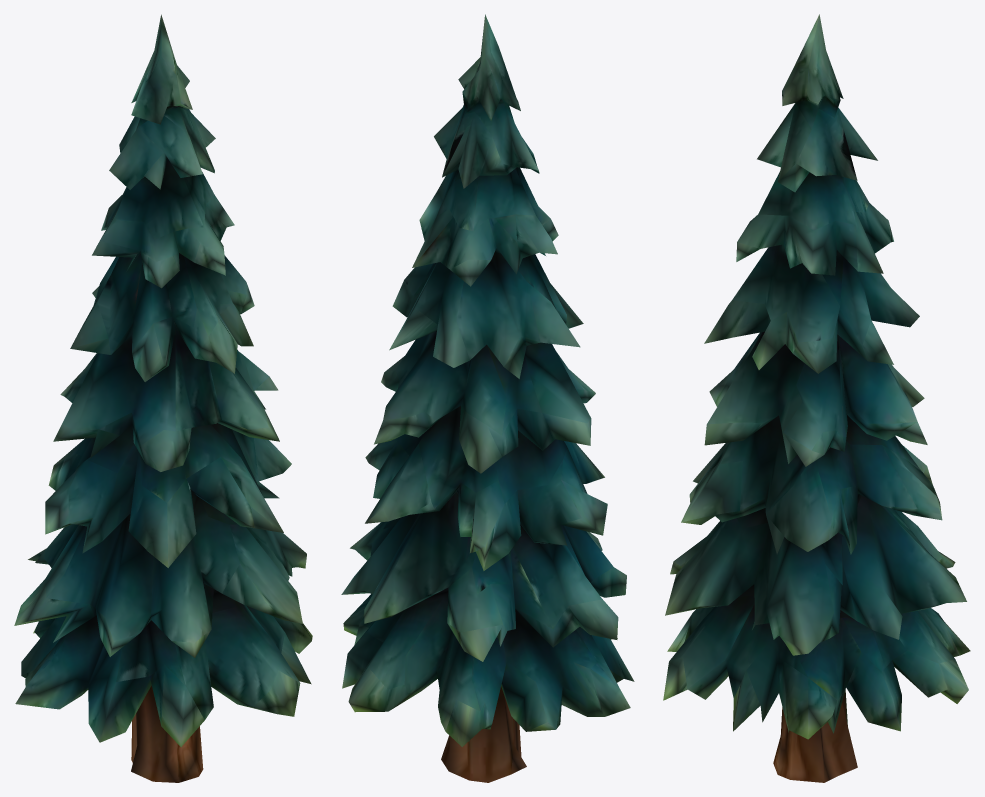
File: tree-fir.glb
3 renders of one model, left to right at view 1: azimuth 30°, elevation 25°; view 2: azimuth 150°, elevation 25°; view 3: azimuth 270°, elevation 25°, orthographic.
Visible parts, largest first — view 1: tree-fir; view 2: tree-fir; view 3: tree-fir.
Boxes of the visible parts, x1,y1,x2,y2 form: tree-fir: [14, 14, 312, 782]; tree-fir: [341, 14, 634, 782]; tree-fir: [663, 14, 970, 782].
Size of the model in its own units: 6.49 by 16 by 5.92.
1 material, 1 textured.
